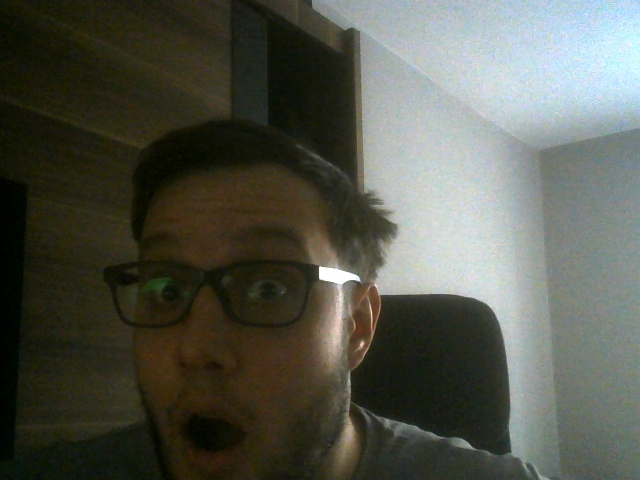surprised: (108, 121, 381, 480)
